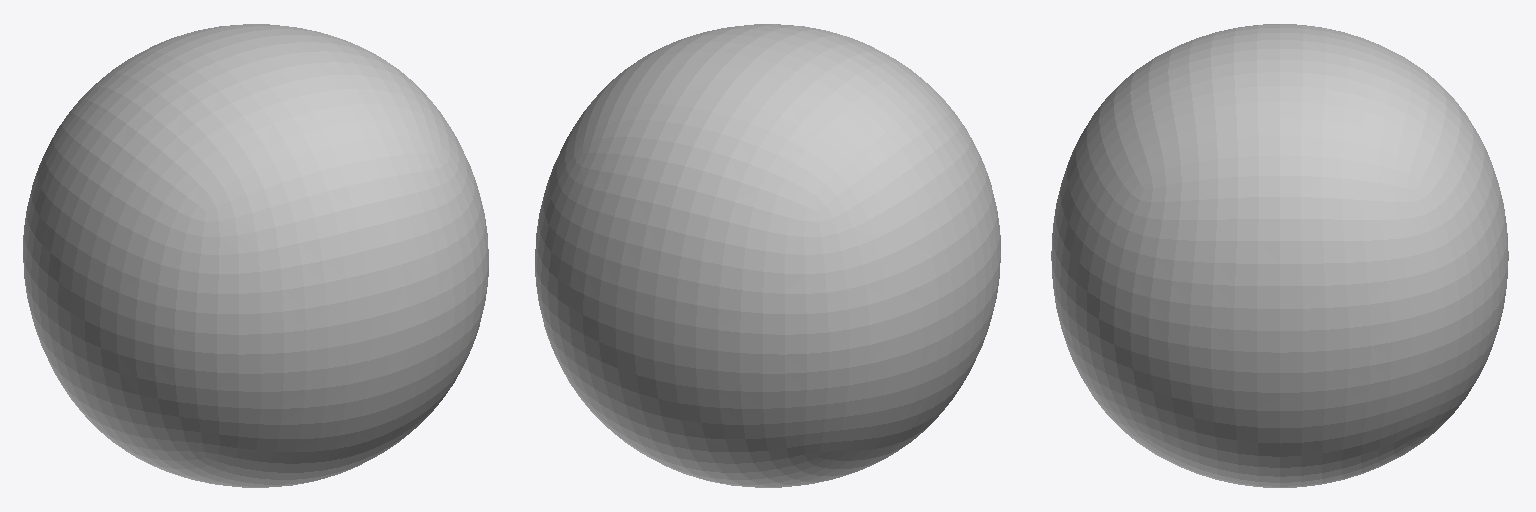
File: moon2.obj
3 views of the same model, side by side, from view 1: azimuth 30°, elevation 25°; view 2: azimuth 150°, elevation 25°; view 3: azimuth 270°, elevation 25° (orthographic).
Visible parts, largest first — view 1: moon; view 2: moon; view 3: moon.
Part boxes in pixels (bbox=[...]): moon: bbox=[23, 24, 488, 487]; moon: bbox=[535, 24, 1000, 487]; moon: bbox=[1051, 24, 1508, 487].
Bounding box in the file's own units: 19.67 × 19.67 × 19.67.